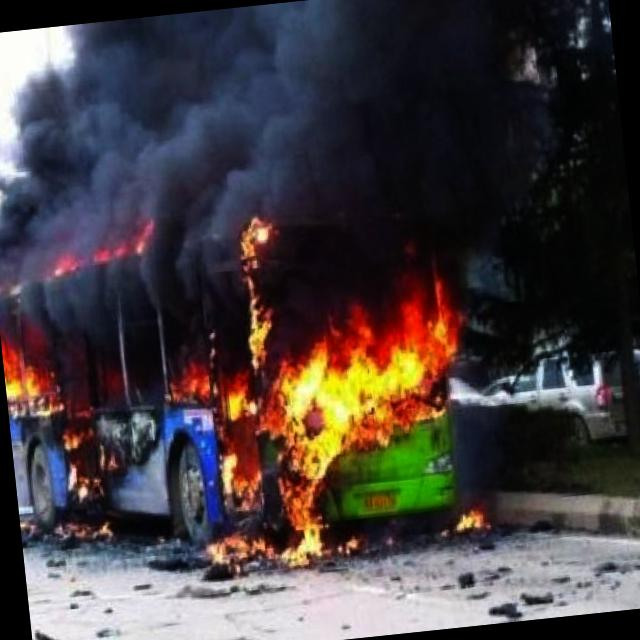Fire_Dangerous: (0, 203, 502, 589)
